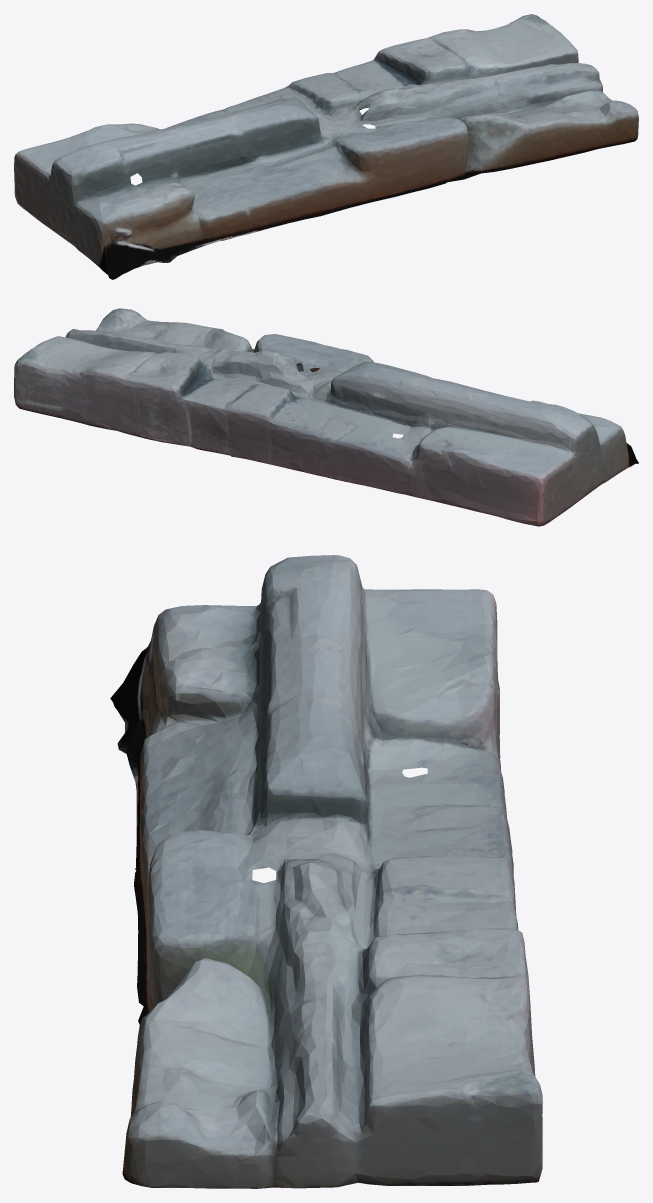
The model's file is piedrablanca.glb.
The picture shows the model from 3 angles, top to bottom: view 1: azimuth 30°, elevation 25°; view 2: azimuth 150°, elevation 25°; view 3: azimuth 270°, elevation 25°; orthographic projection. The views are drawn at different scales.
Visible parts, largest first — view 1: world; view 2: world; view 3: world.
Part boxes in pixels (x1=…): world: x1=14, y1=14, x2=638, y2=279; world: x1=14, y1=308, x2=638, y2=526; world: x1=110, y1=555, x2=542, y2=1188.
Size of the model in its own units: 1 by 0.1508 by 0.3599.
1 material, 1 textured.
